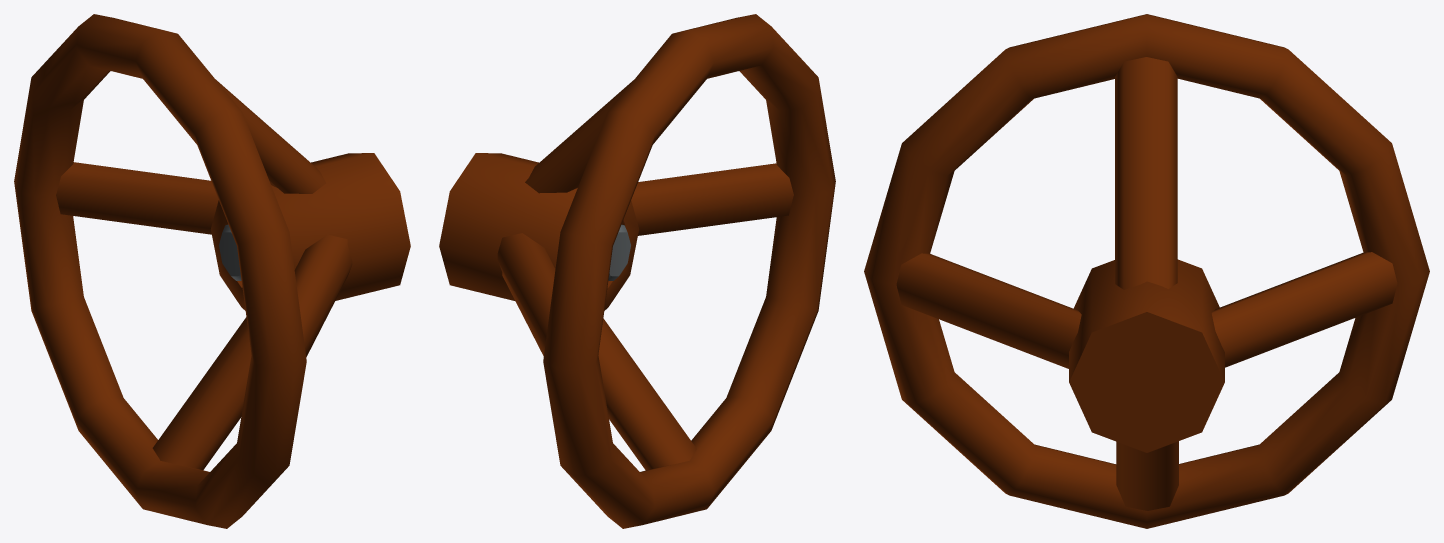
The model's file is SM_ValveB.fbx.
3 views of the same model, side by side, from view 1: azimuth 30°, elevation 25°; view 2: azimuth 150°, elevation 25°; view 3: azimuth 270°, elevation 25° (orthographic). The views are drawn at different scales.
Parts seen in each view (by area): view 1: SM_ValveB; view 2: SM_ValveB; view 3: SM_ValveB.
Part boxes in pixels (bbox=[...]): SM_ValveB: bbox=[14, 14, 410, 528]; SM_ValveB: bbox=[439, 14, 835, 528]; SM_ValveB: bbox=[864, 14, 1429, 528].
Size of the model in its own units: 0.2116 by 0.4088 by 0.4088.
